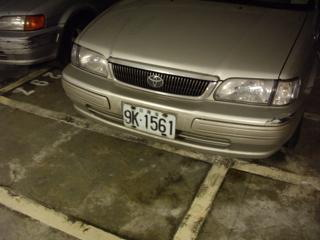plate: (121, 101, 177, 142)
